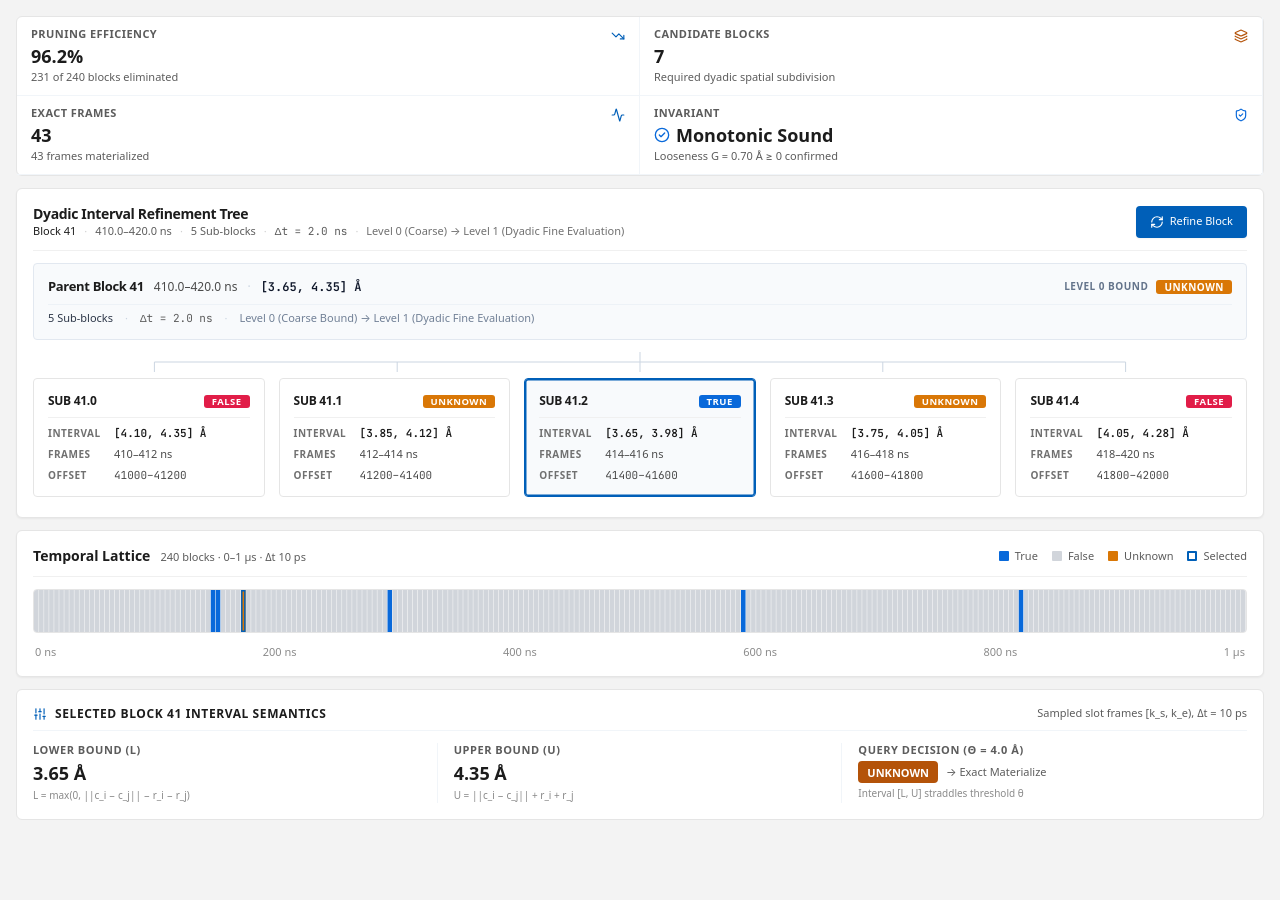
Test: PASS 43B.2: Refinement Explorer Final Geometry Rebuild Test Suite › RefinementExplorerView connects selected child to TimelineLattice highlight
The width and height of the screenshot is (1280, 900).
Expected: the element with test id "dyadic-refinement-tree" is shown, [16,188,1264,518]
Expected: the element with test id "temporal-lattice-panel" is shown, [16,530,1264,677]
# Click 41.4 to test context connection
Step 1. Click the button with test id "dyadic-sub-block-" → [1131, 438], box [1015,378,1247,497]
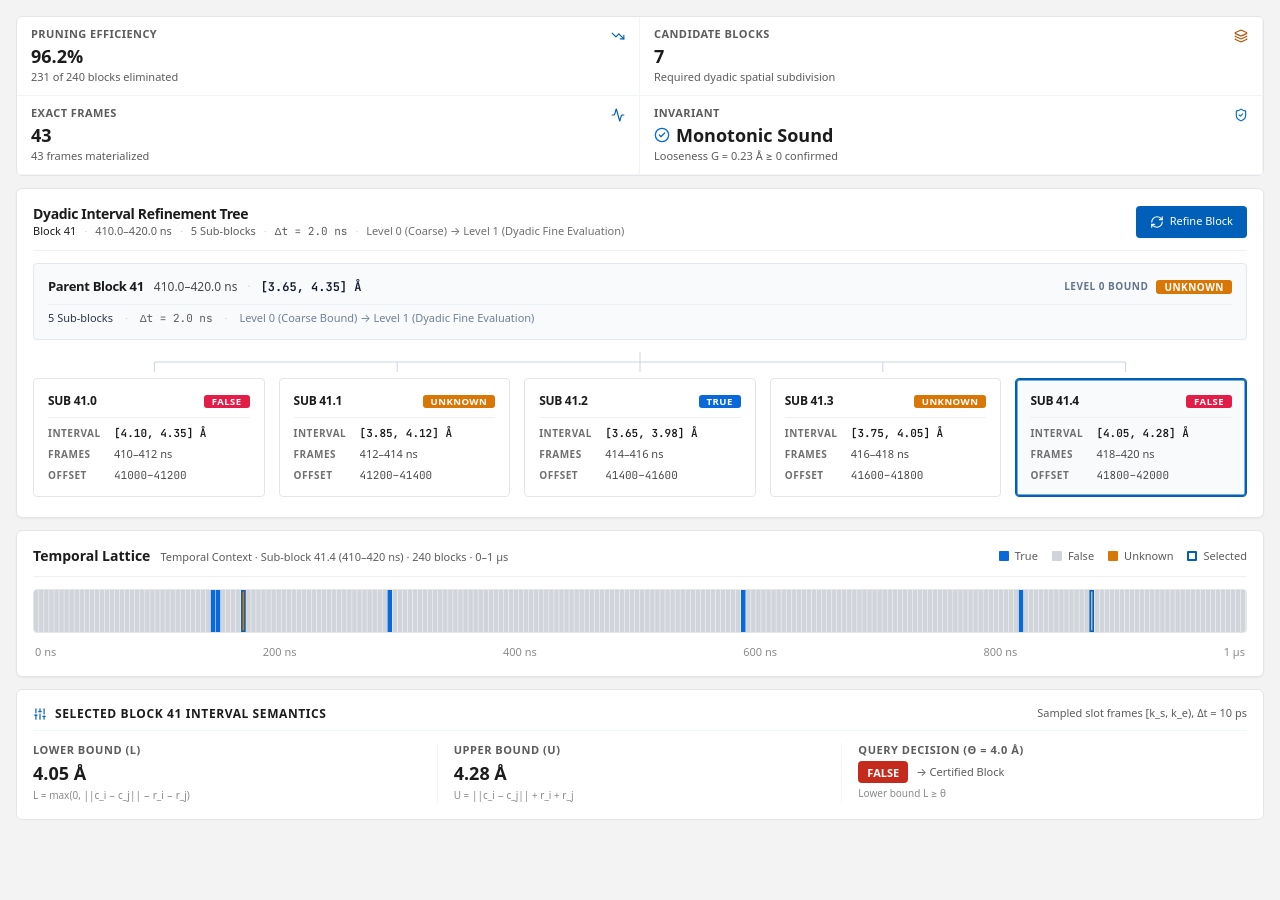
Result: the element with test id "temporal-lattice-panel" shows "Sub-block 41.4" at [160,549,508,564]
